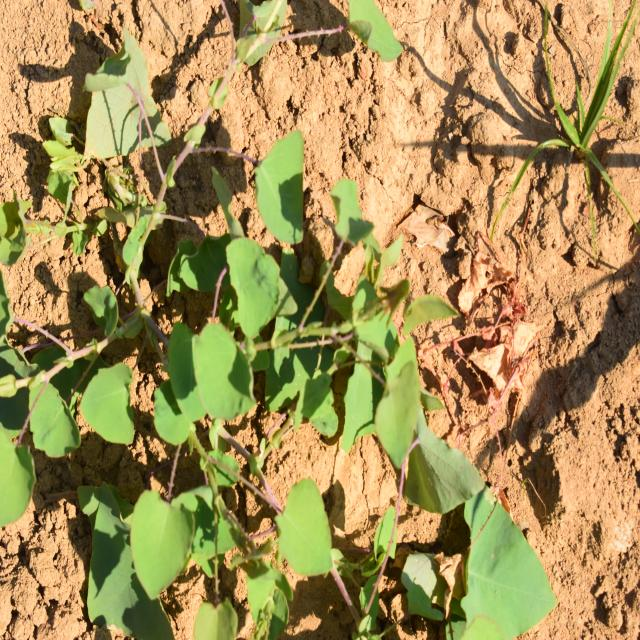Asiatic_Smartweed: (112, 319, 336, 601)
